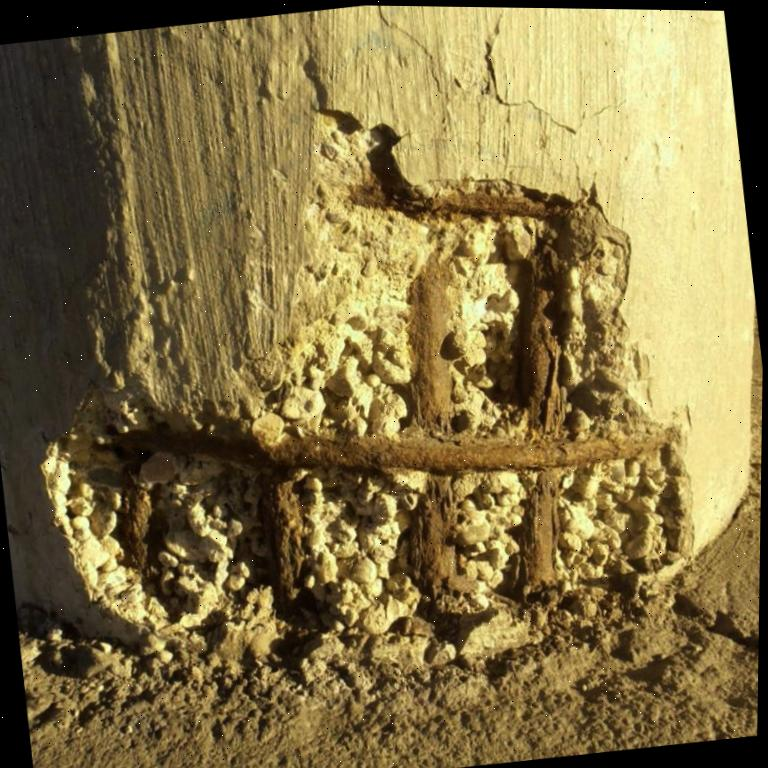exposed_rebar: (113, 428, 674, 607), (350, 184, 576, 219), (408, 255, 452, 432), (519, 277, 563, 434), (118, 471, 153, 572)
spalling: (33, 52, 691, 694)
